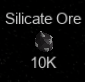Silicate: (5, 11, 83, 71)
